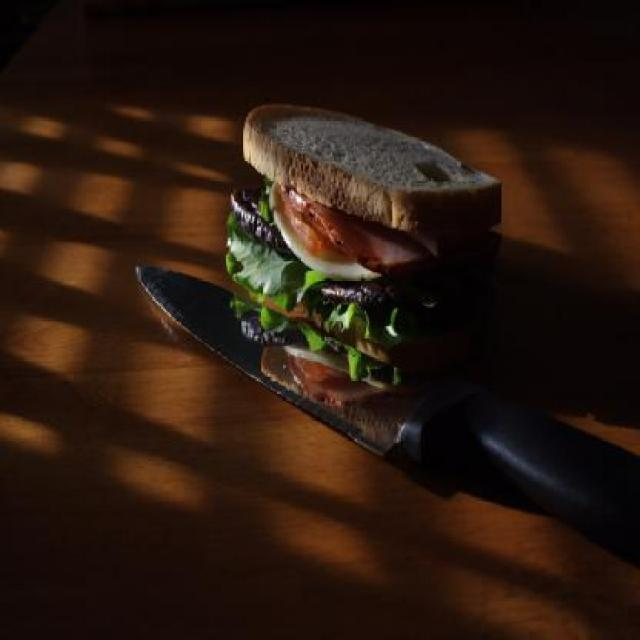Hamburger: (222, 104, 504, 362)
